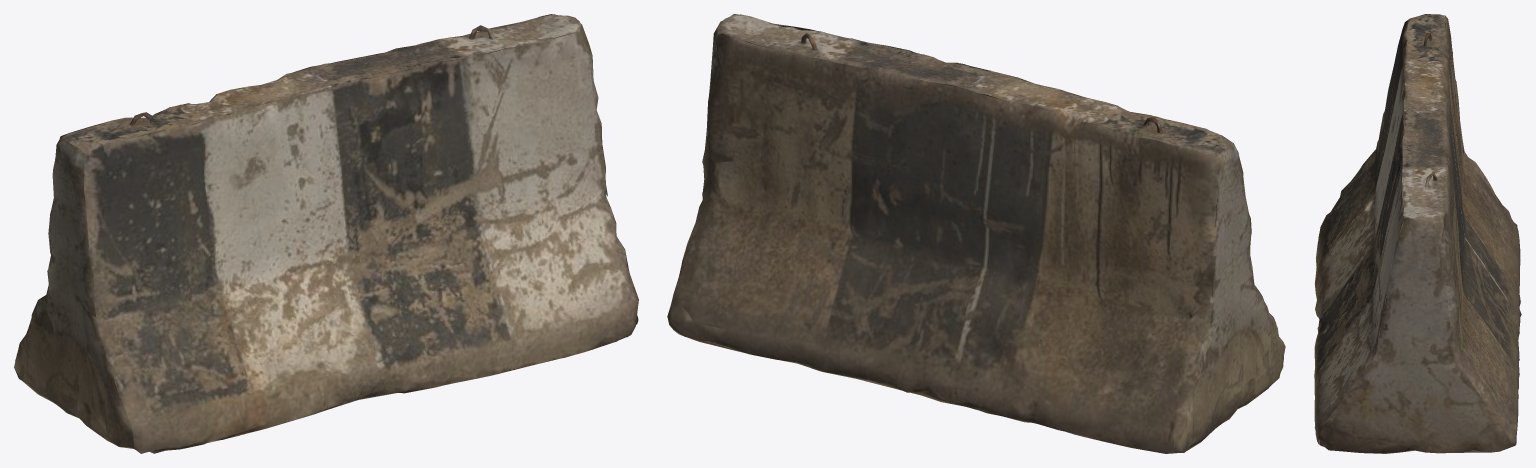
The model's file is barrier_1.glb.
3 views of the same model, side by side, from view 1: azimuth 30°, elevation 25°; view 2: azimuth 150°, elevation 25°; view 3: azimuth 270°, elevation 25° (orthographic). The views are drawn at different scales.
Visible parts, largest first — view 1: barrier_1; view 2: barrier_1; view 3: barrier_1.
Boxes of the visible parts, <box> form: barrier_1: <box>14,14,638,453</box>; barrier_1: <box>667,14,1285,453</box>; barrier_1: <box>1314,14,1521,453</box>.
Bounding box in the file's own units: 1.54 × 0.8336 × 0.6358.
Materials: 1 (1 with a texture image).
